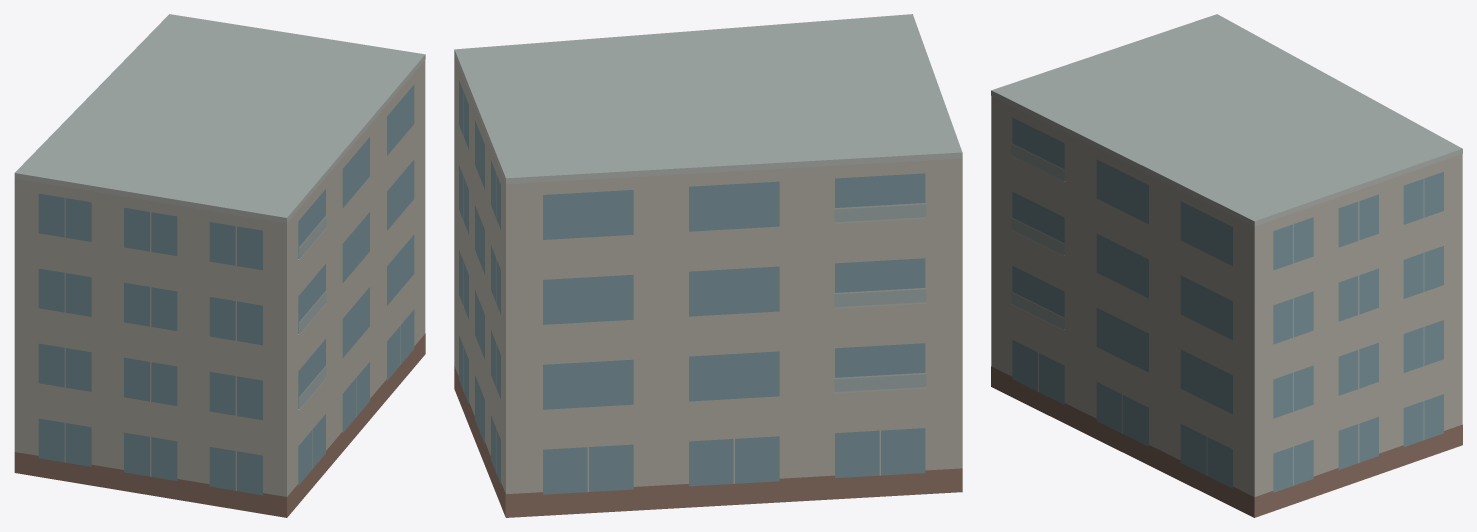
The model's file is survey-upis-32749263.glb.
3 views of the same model, side by side, from view 1: azimuth 30°, elevation 25°; view 2: azimuth 150°, elevation 25°; view 3: azimuth 270°, elevation 25° (orthographic). The views are drawn at different scales.
Parts seen in each view (by area): view 1: survey-upis-32749263.tmp; view 2: survey-upis-32749263.tmp; view 3: survey-upis-32749263.tmp.
Part boxes in pixels (x1,y1,x2,y2): survey-upis-32749263.tmp: [14, 14, 425, 517]; survey-upis-32749263.tmp: [454, 14, 962, 517]; survey-upis-32749263.tmp: [991, 14, 1462, 517].
Size of the model in its own units: 20.78 by 13.85 by 19.97.
